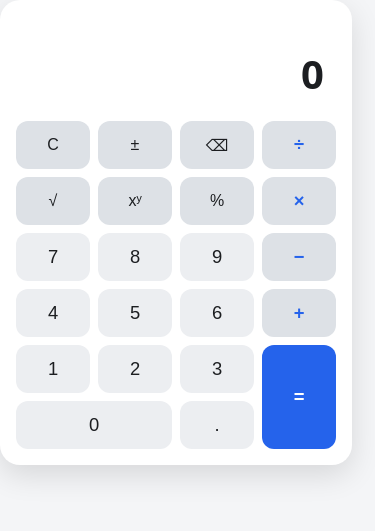
Calculator › shows an error banner on division by zero
Click the button "5" at (135, 313), box [98,289,172,337]
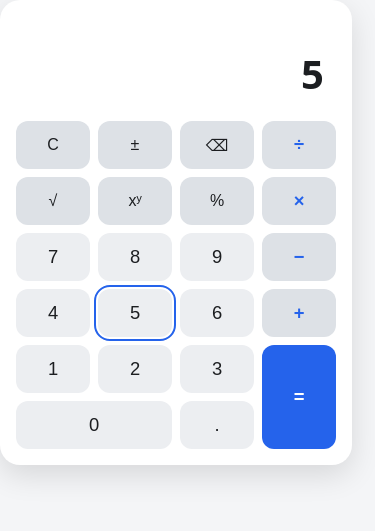
Click the button named "divide" at (299, 145), box [262,121,336,169]
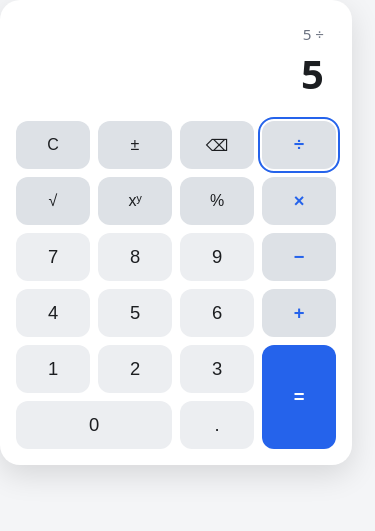
Click the button "0" at (94, 425), box [16,401,172,449]
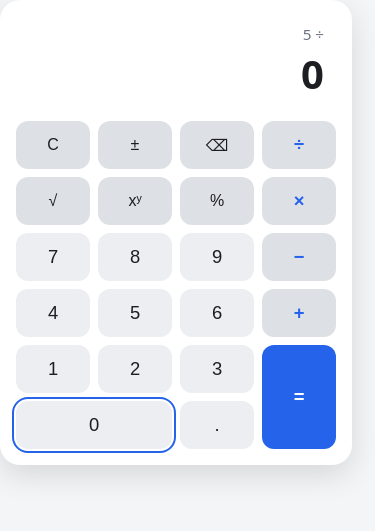
Click the button named "equals" at (299, 397), box [262,345,336,449]
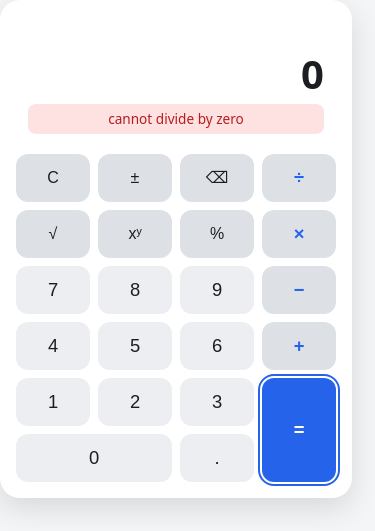
Expected: the message "cannot divide by zero" is shown, [28,104,324,134]
